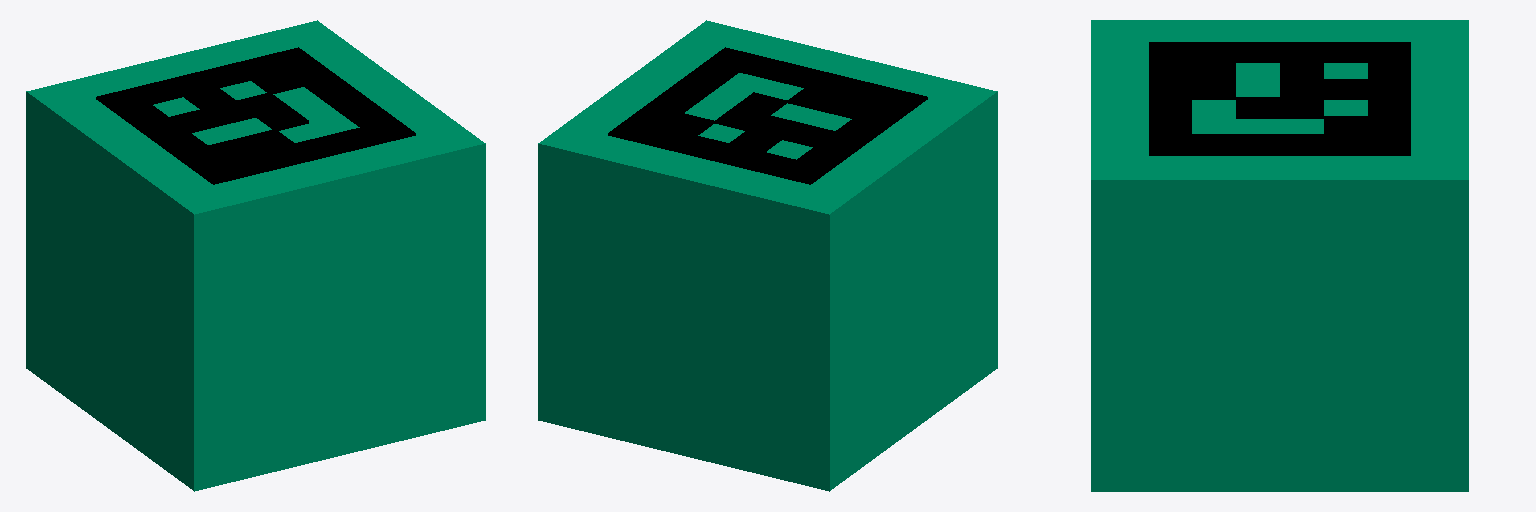
URDF robot description (marker):
<robot name="marker">
    <material name="black">
        <color rgba="0 0 0 1"/>
    </material>

    <link name="world"/>

    <link name="marker">
        <visual>
            <geometry>
                <mesh filename="meshes2/files/arucocube_black.stl" scale="0.0051"/>
            </geometry>
            <origin xyz="0 0 0.1" rpy="0 0 0" />
            <material name="black"/>
        </visual>
    </link>

    <joint name="world_to_marker" type="fixed">
        <parent link="world"/>
        <child link="marker"/> 
        <origin xyz="0.1 0.1 0" rpy="0 0 0" />    
    </joint>

    <link name="marker_background">
        <visual>
            <geometry>
                <box size="0.22 0.22 0.2"/>
            </geometry>
            <origin xyz="0 0 0.1" rpy="0 0 0" />
        </visual>
    </link>

    <joint name="marker_to_bg" type="fixed">
        <parent link="marker"/>
        <child link="marker_background"/>     
    </joint>

</robot>

--- Facts derived from the render (not from the file) ---
3 views of the same robot in one strip: view 1: azimuth 30°, elevation 25°; view 2: azimuth 150°, elevation 25°; view 3: azimuth 270°, elevation 25° (orthographic).
Model marker with 3 links and 2 joints (2 fixed), rooted at world, posed every joint at zero.
Links seen in each view (by area): view 1: marker_background, marker; view 2: marker_background, marker; view 3: marker_background, marker.
Boxes of the visible links, x1=… form: marker_background: x1=26, y1=20, x2=485, y2=491; marker: x1=96, y1=47, x2=415, y2=184; marker_background: x1=538, y1=20, x2=997, y2=491; marker: x1=608, y1=47, x2=927, y2=184; marker_background: x1=1091, y1=20, x2=1468, y2=491; marker: x1=1149, y1=42, x2=1410, y2=155.
Bounding box of the posed robot: 0.22 × 0.22 × 0.204 m (x, y, z).
1 mesh visuals loaded from 1 distinct referenced files (1 binary STL).